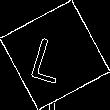L_N: (33, 27, 77, 83)
